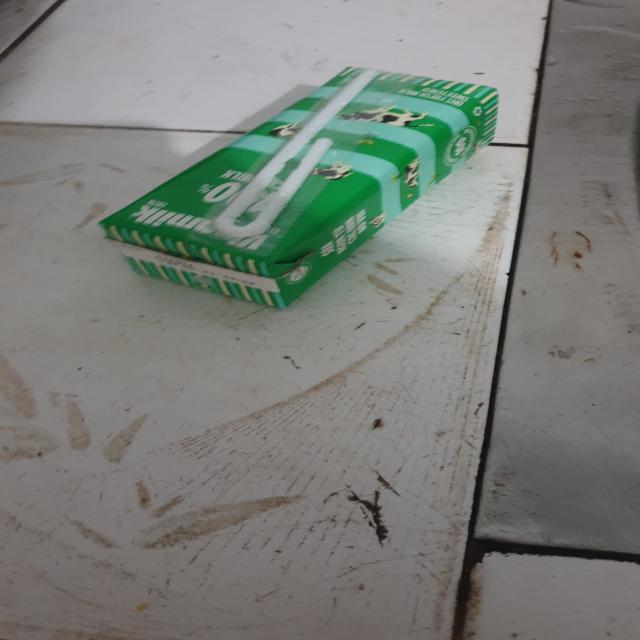Vina: (103, 74, 503, 312)
